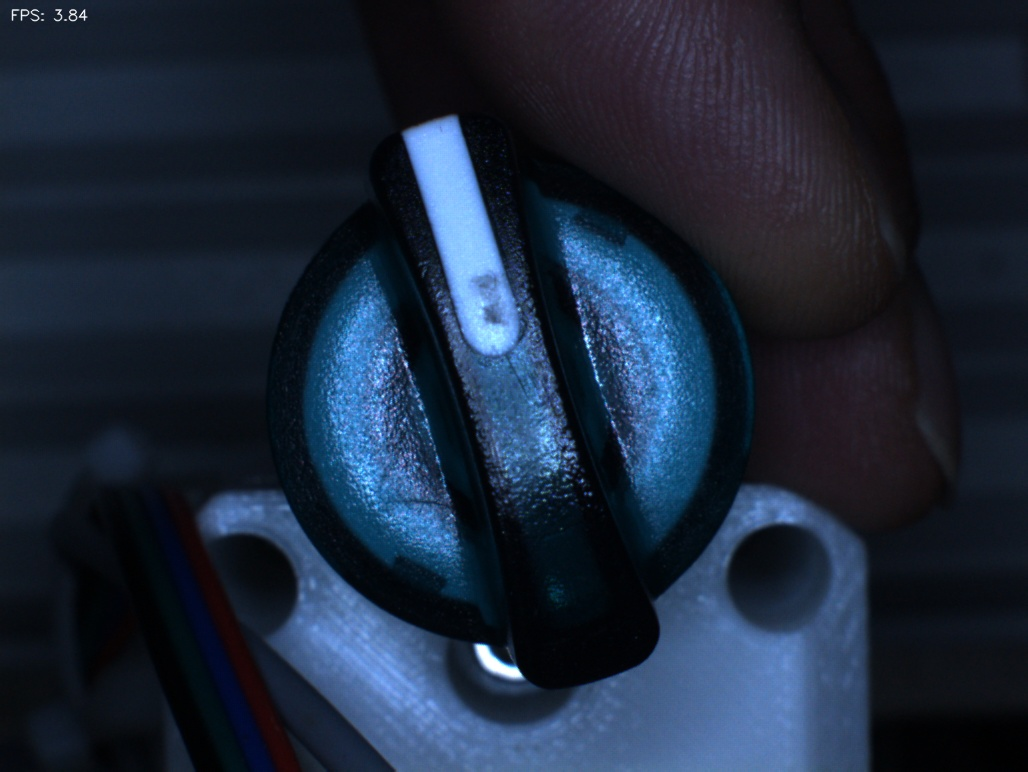PointNoir: (438, 246, 540, 350)
